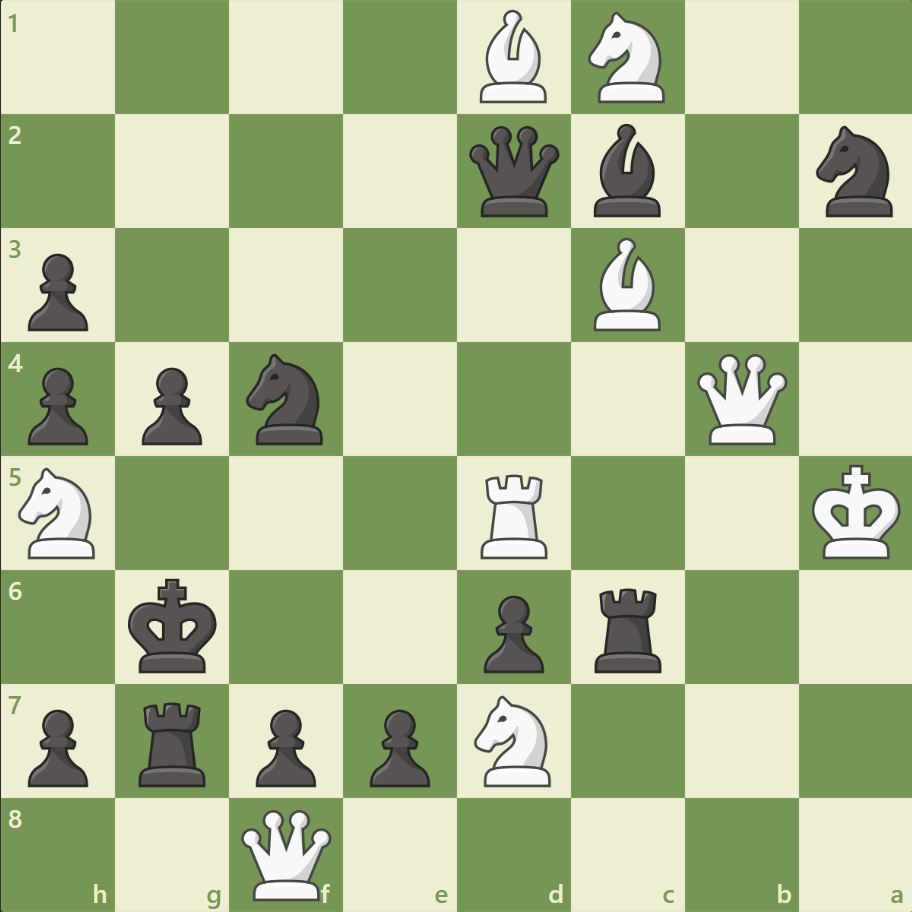B: (585, 233, 669, 336), (471, 6, 555, 109)
K: (806, 458, 906, 566)
N: (465, 688, 562, 791), (11, 461, 108, 564), (579, 7, 676, 110)
Q: (691, 349, 790, 449), (237, 804, 336, 903)
R: (473, 466, 556, 563)
b: (585, 120, 669, 222)
k: (124, 571, 224, 679)
n: (238, 348, 335, 450), (806, 121, 903, 223)
p: (247, 700, 322, 791), (20, 700, 95, 791), (474, 586, 549, 677), (133, 359, 208, 450), (20, 359, 95, 450), (20, 246, 95, 337), (361, 700, 435, 791)
q: (464, 122, 563, 222)
r: (587, 579, 670, 676), (133, 693, 215, 790)
